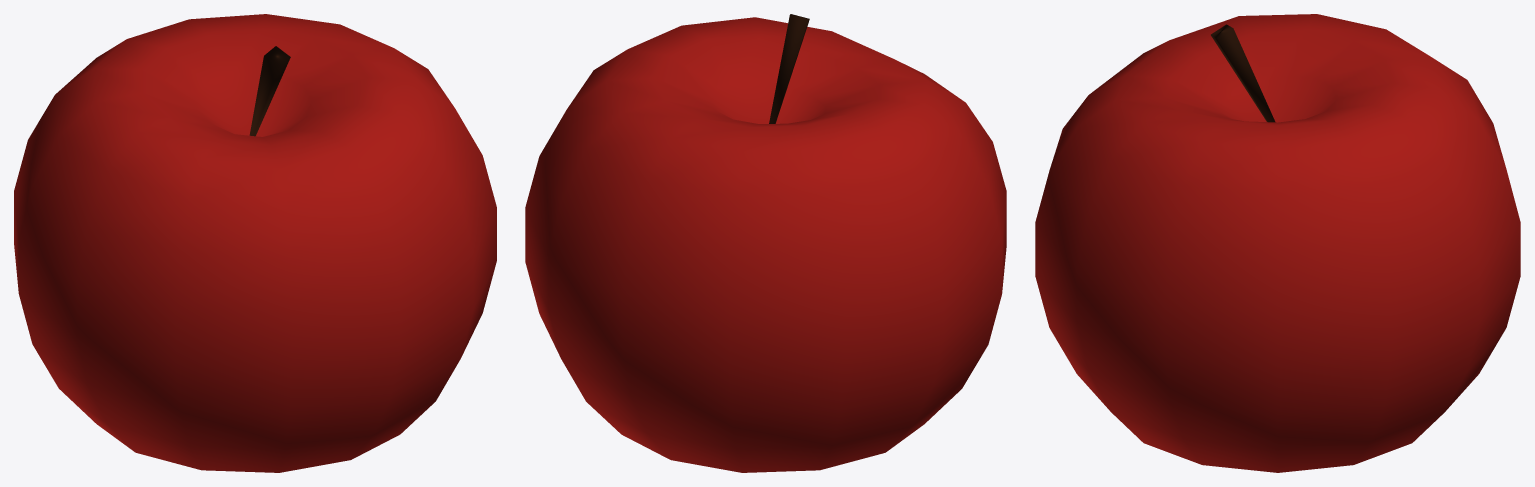
File: Fruit_Apple.fbx
The picture shows the model from 3 angles, left to right: view 1: azimuth 30°, elevation 25°; view 2: azimuth 150°, elevation 25°; view 3: azimuth 270°, elevation 25°; orthographic projection.
Parts seen in each view (by area): view 1: pCone2; view 2: pCone2; view 3: pCone2.
Part boxes in pixels (x1,y1,x2,y2): pCone2: (14,14,496,472); pCone2: (525,14,1006,472); pCone2: (1035,14,1520,472).
Bounding box in the file's own units: 0.2431 × 0.2197 × 0.2449.
